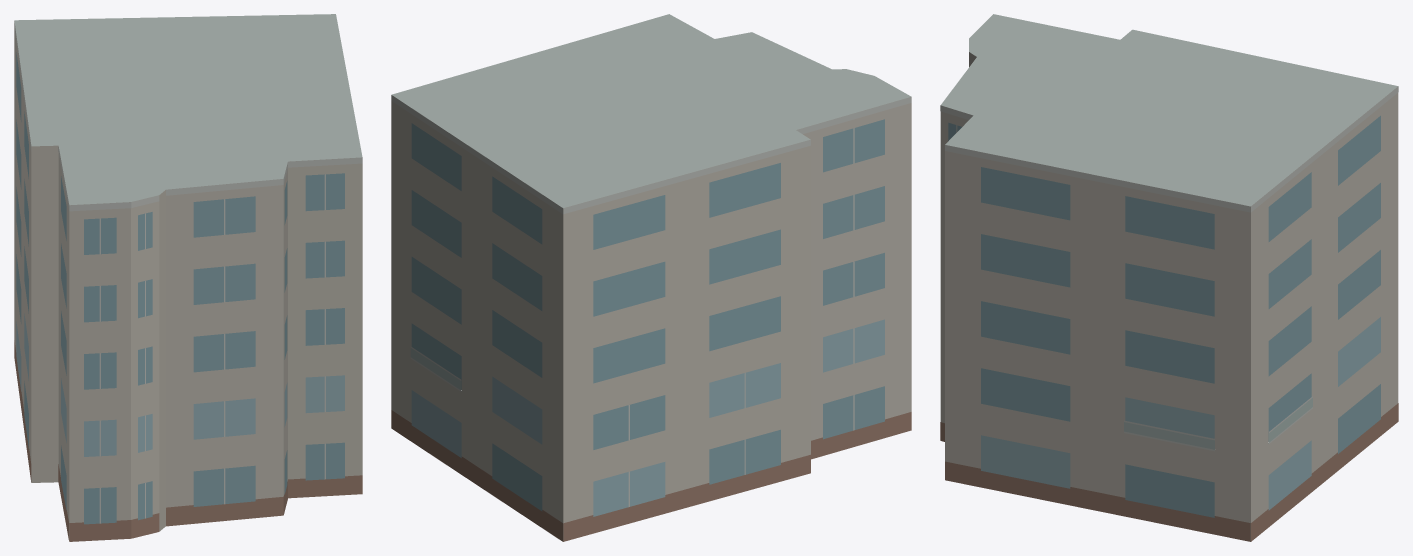
Rendered from survey-upis-32679219.glb.
3 views of the same model, side by side, from view 1: azimuth 30°, elevation 25°; view 2: azimuth 150°, elevation 25°; view 3: azimuth 270°, elevation 25° (orthographic).
Visible parts, largest first — view 1: survey-upis-32679219.tmp; view 2: survey-upis-32679219.tmp; view 3: survey-upis-32679219.tmp.
Part boxes in pixels (x1,y1,x2,y2): survey-upis-32679219.tmp: (14,14,362,541); survey-upis-32679219.tmp: (391,14,911,541); survey-upis-32679219.tmp: (940,14,1398,541).
Size of the model in its own units: 16.44 by 13.35 by 16.53.
